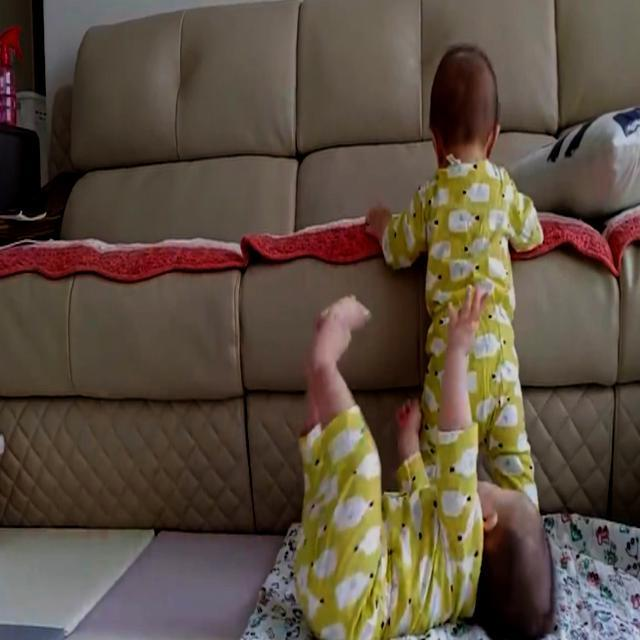child: (293, 277, 557, 640), (361, 44, 546, 537)
